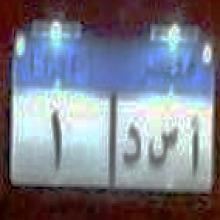1: (51, 105, 67, 179)
alif: (187, 115, 202, 179)
daal: (122, 118, 144, 171)
seen: (147, 126, 180, 170)
